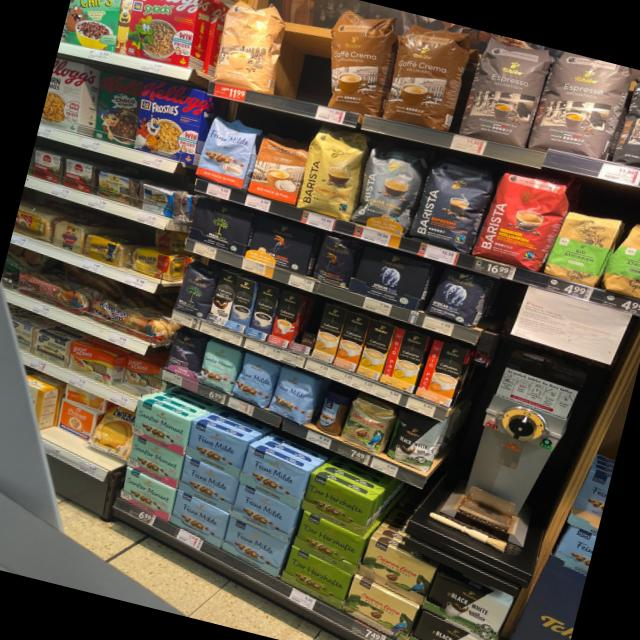AB Bohne: (420, 263, 494, 329)
AB Gemahlen: (346, 244, 431, 311)
Athiopien Bohne: (597, 222, 640, 300)
Athiopien Gemahlen: (538, 205, 625, 288)
BM Gemahlen: (183, 195, 258, 257)
BW Bohne: (383, 406, 447, 476)
BW Gemahlen: (420, 572, 509, 640), (408, 607, 482, 640)
Barista CB: (292, 124, 372, 223)
Barista CC: (348, 137, 434, 237)
Barista Espresso: (408, 152, 501, 257)
Barista Kolumbien: (471, 169, 574, 273)
C Fino Bohne: (172, 261, 221, 320), (160, 328, 206, 380)
CC Mild: (209, 0, 291, 95)
CC Vollmundig: (245, 132, 311, 207)
CC Vollmundig 36 Pads: (378, 16, 478, 133), (313, 0, 404, 119)
Colombia BB Bohne: (336, 392, 397, 455)
Colombia BB Gemahlen: (355, 537, 438, 606), (340, 575, 420, 640)
Empty Shelf: (271, 4, 337, 105), (287, 294, 327, 355)
Espresso Aromatisch: (524, 50, 639, 161), (454, 32, 556, 149)
Espresso Kraftig: (609, 70, 640, 167)
FM 36 Pads: (191, 111, 264, 190)
FM Bohne: (262, 365, 321, 428), (229, 350, 282, 410)
FM Gemahlen: (237, 443, 311, 511), (228, 480, 299, 544), (218, 515, 289, 579), (185, 420, 249, 479), (167, 489, 230, 548), (176, 457, 239, 514)
FM Instant: (308, 386, 353, 439)
Herzhatfe Mundig: (289, 510, 367, 576), (299, 471, 373, 537), (279, 546, 353, 611)
LG Bohne: (308, 231, 363, 290)
LG Gemahlen: (243, 213, 318, 277)
SM Bohne: (194, 338, 245, 396)
SM Gemahlen: (130, 398, 192, 455), (116, 466, 177, 523), (123, 434, 185, 490)
Simo CCMild: (378, 324, 429, 393)
Simo CCMild bigpack: (355, 317, 395, 381)
Simo CCVollmundig: (413, 338, 470, 409)
Simo CCVollmundig bigpack: (331, 309, 372, 373)
Simo Decaff: (309, 302, 349, 363)
Simo Es Brazil: (265, 288, 304, 348)
Simo Es Elegant: (205, 269, 239, 327)
Simo Es Kraft: (243, 282, 281, 342)
Simo Es Vanilla: (223, 276, 256, 335)
